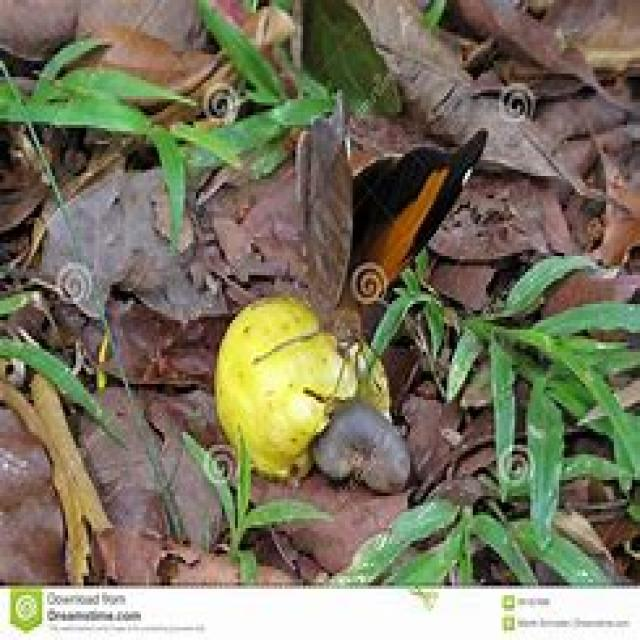cashew: (314, 399, 417, 497)
